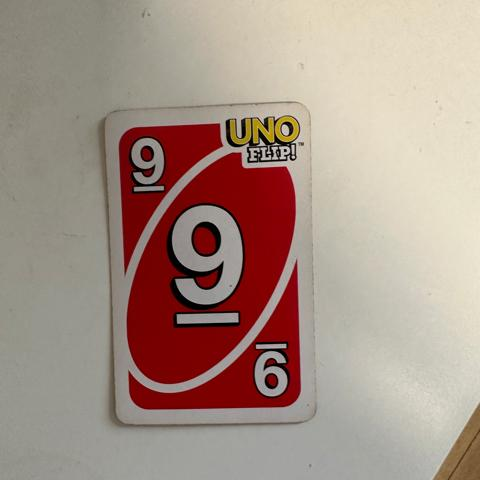1_red: (167, 203, 247, 327), (121, 139, 167, 193), (253, 343, 290, 401)
